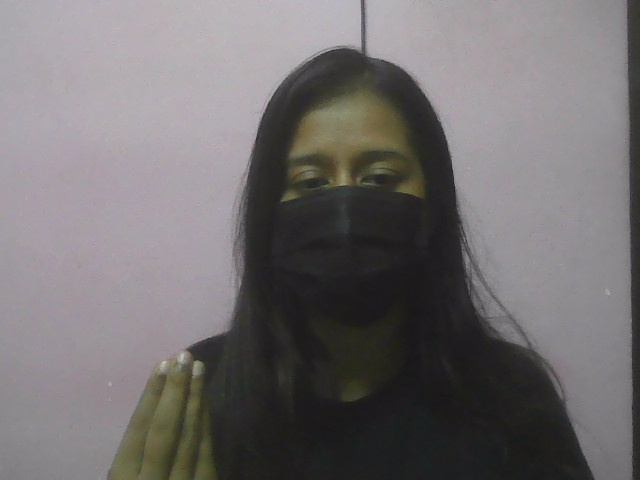Morning: (102, 344, 232, 479)
